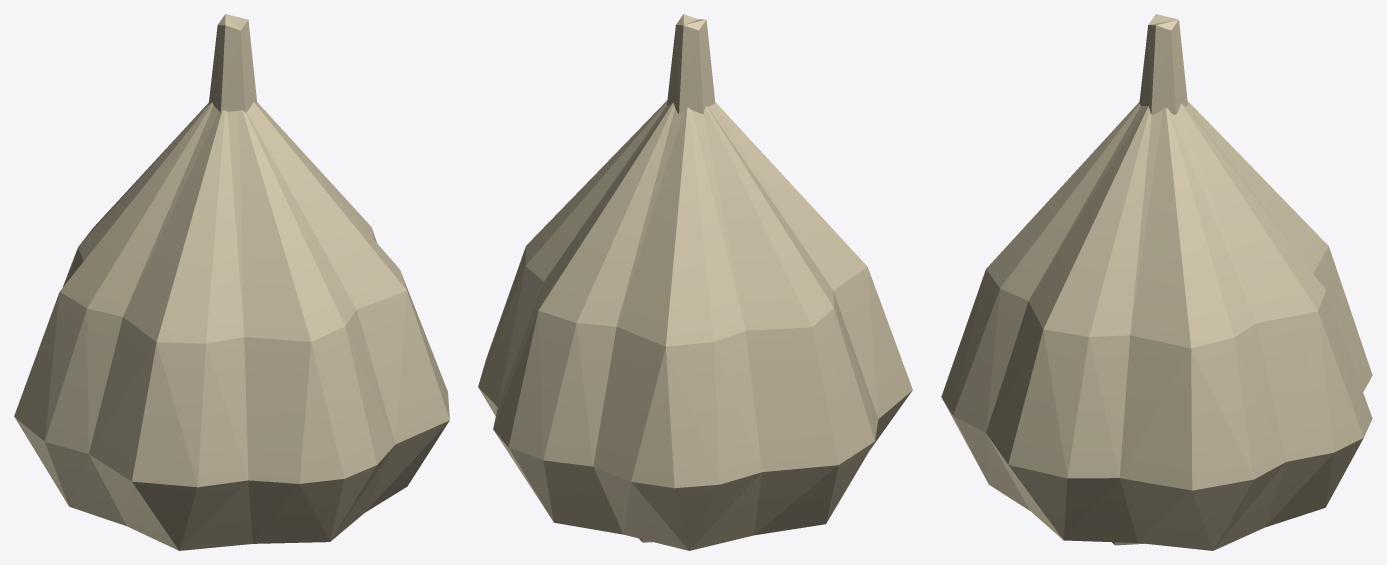
File: Crop_Garlic_01.obj
3 views of the same model, side by side, from view 1: azimuth 30°, elevation 25°; view 2: azimuth 150°, elevation 25°; view 3: azimuth 270°, elevation 25° (orthographic).
Visible parts, largest first — view 1: Crop_Garlic_01; view 2: Crop_Garlic_01; view 3: Crop_Garlic_01.
Boxes of the visible parts, x1,y1,x2,y2 form: Crop_Garlic_01: [14, 14, 449, 550]; Crop_Garlic_01: [478, 14, 912, 550]; Crop_Garlic_01: [941, 14, 1372, 550].
Size of the model in its own units: 0.0884 by 0.1095 by 0.0873.
1 material, 1 textured.
